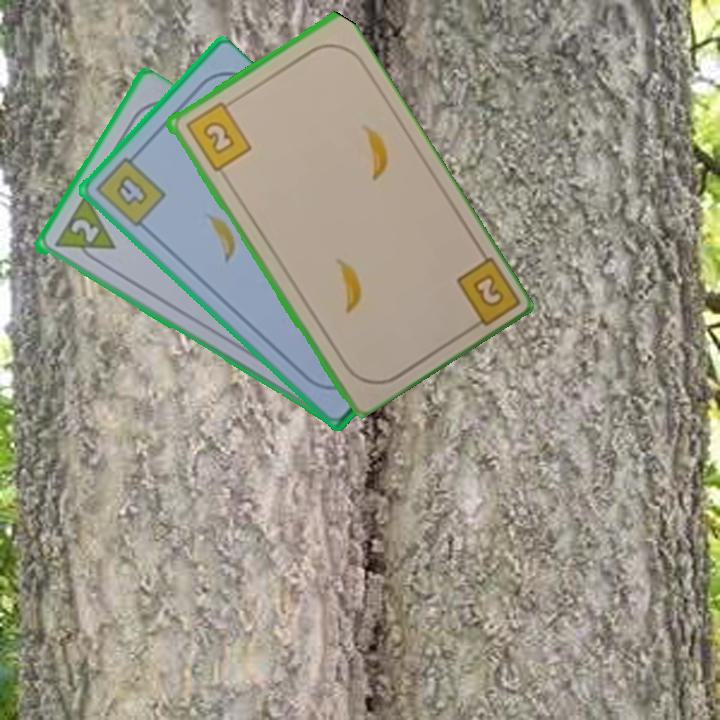2b: (181, 96, 254, 174), (452, 252, 520, 335)
2p: (66, 215, 102, 246)
4b: (92, 148, 169, 230)
